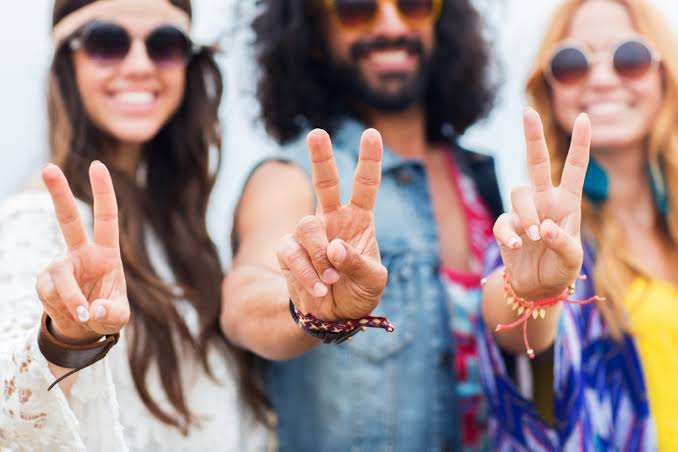peace_sign: (266, 120, 410, 322), (487, 95, 602, 301), (29, 158, 143, 341)
